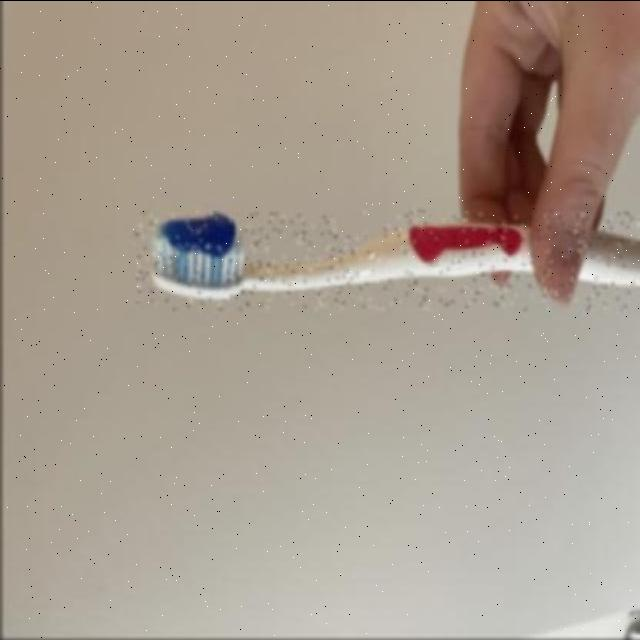toothbrush: (134, 211, 640, 311)
